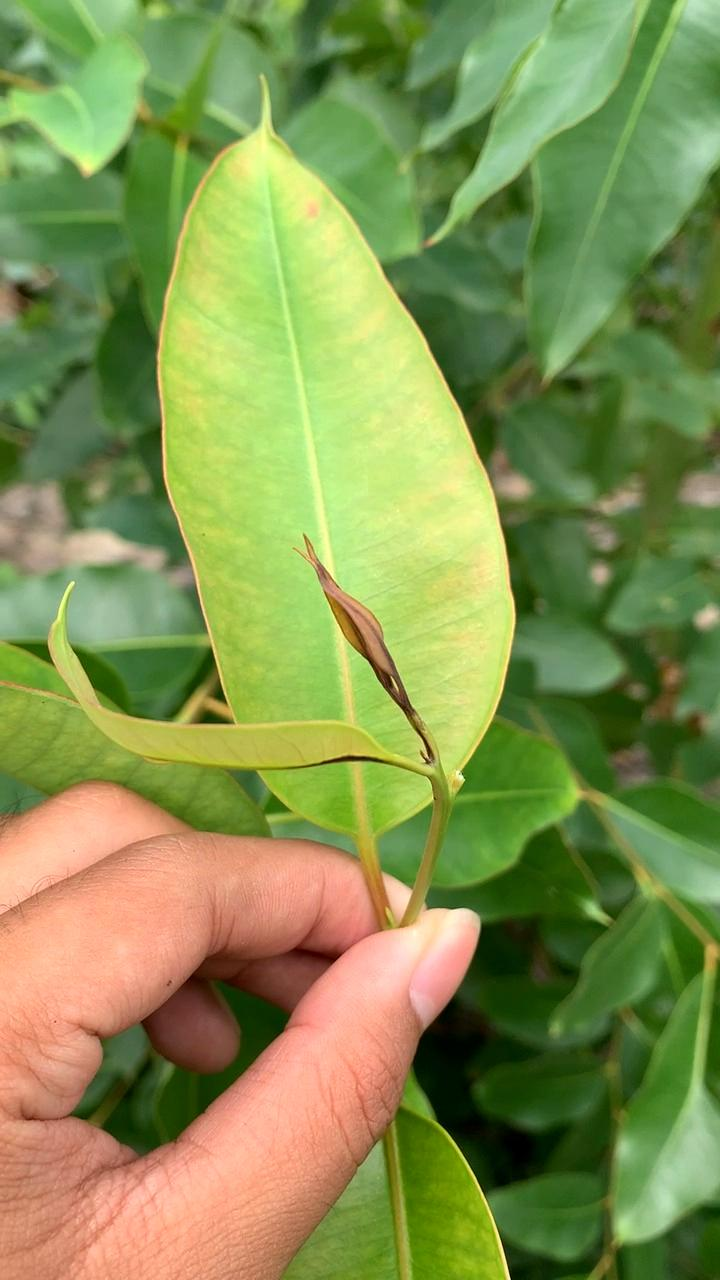Helopeltis-Withered Sprout: (286, 520, 455, 781)
